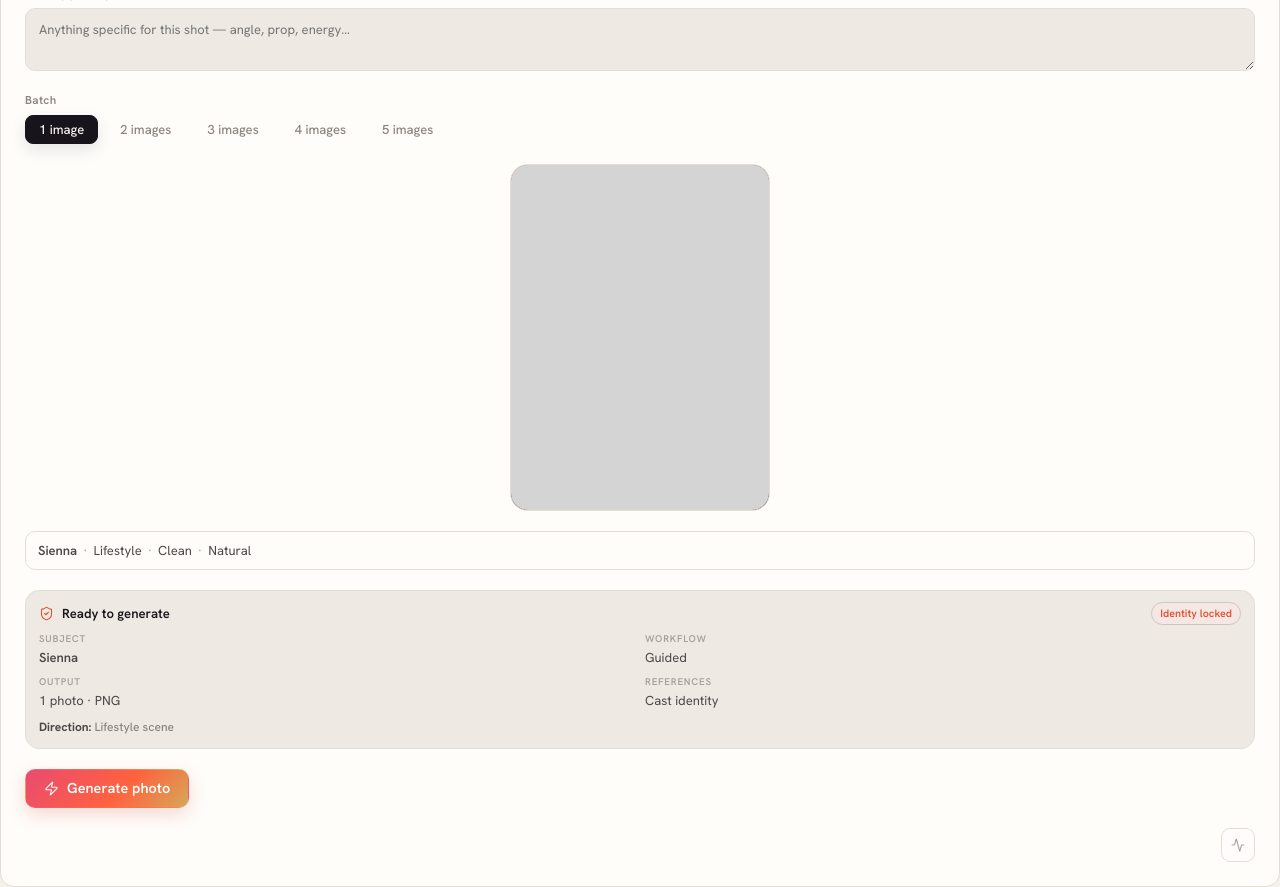
Test: ShootBuilder — owner-only staging reference preflight › renders sanitized valid-reference metadata (MIME/dimensions/size), never base64
(page scrolled)
Click the button "Check References".
click(1238, 845)  # box [1221, 828, 1255, 862]
(page scrolled)
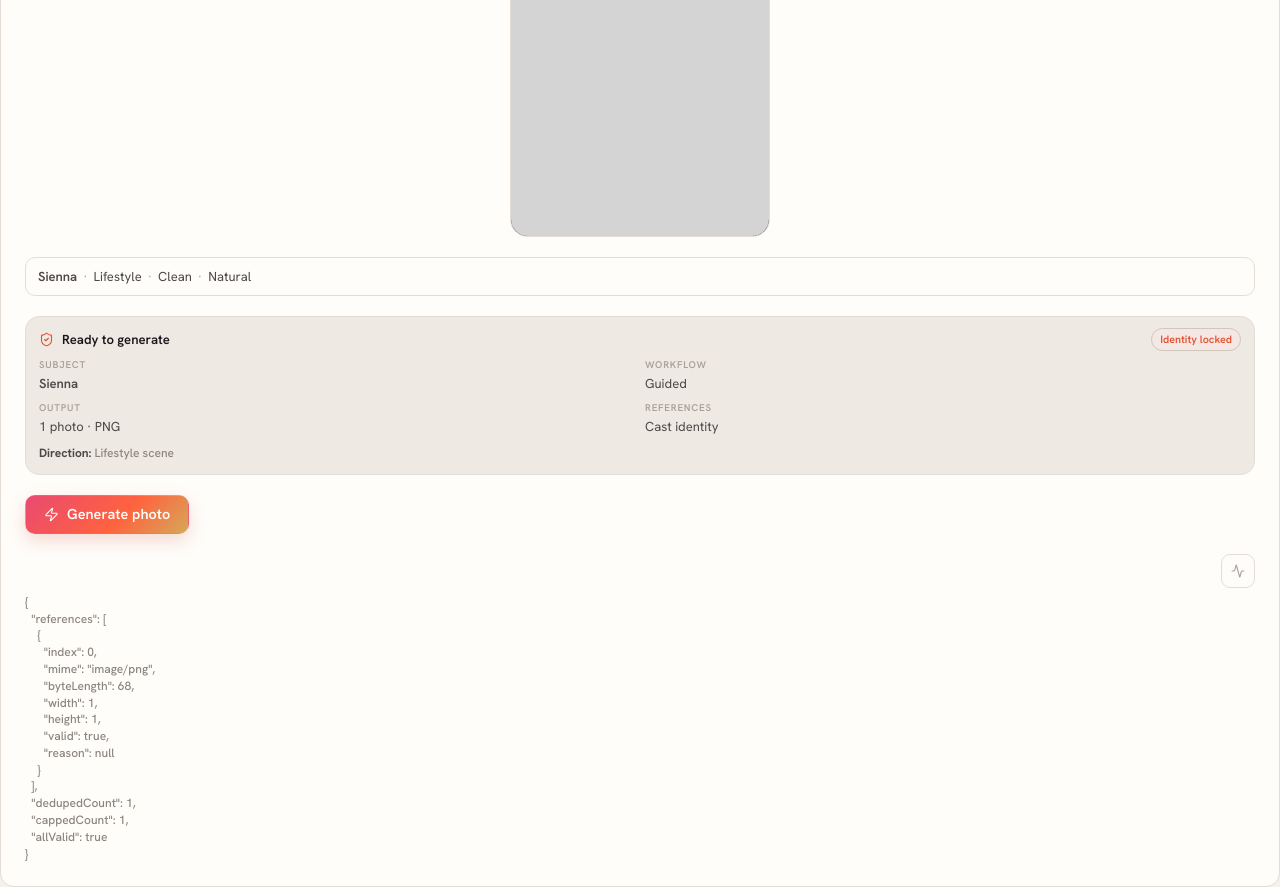
Expected: the text "image/png" is shown, [25, 594, 155, 862]
